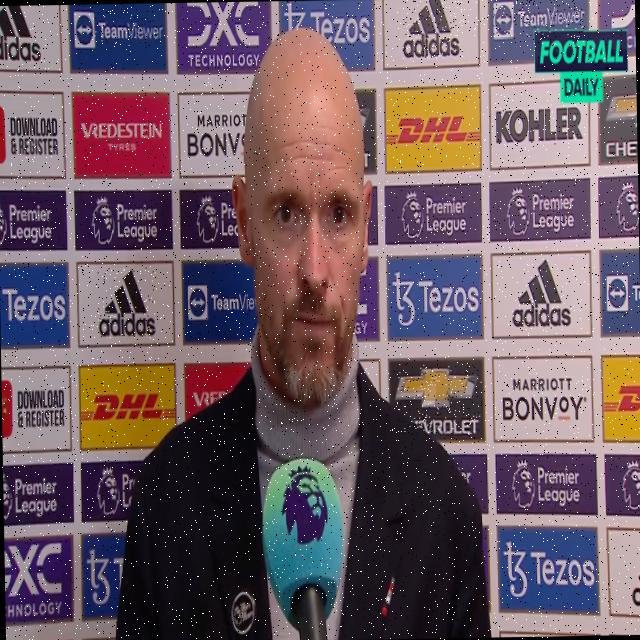Adidas: (510, 257, 572, 332), (96, 267, 157, 339), (402, 0, 463, 58)
Chevrolet: (395, 363, 482, 438)
Kohler: (495, 104, 582, 146)
TeamViewer: (74, 9, 163, 49), (492, 0, 583, 38)
